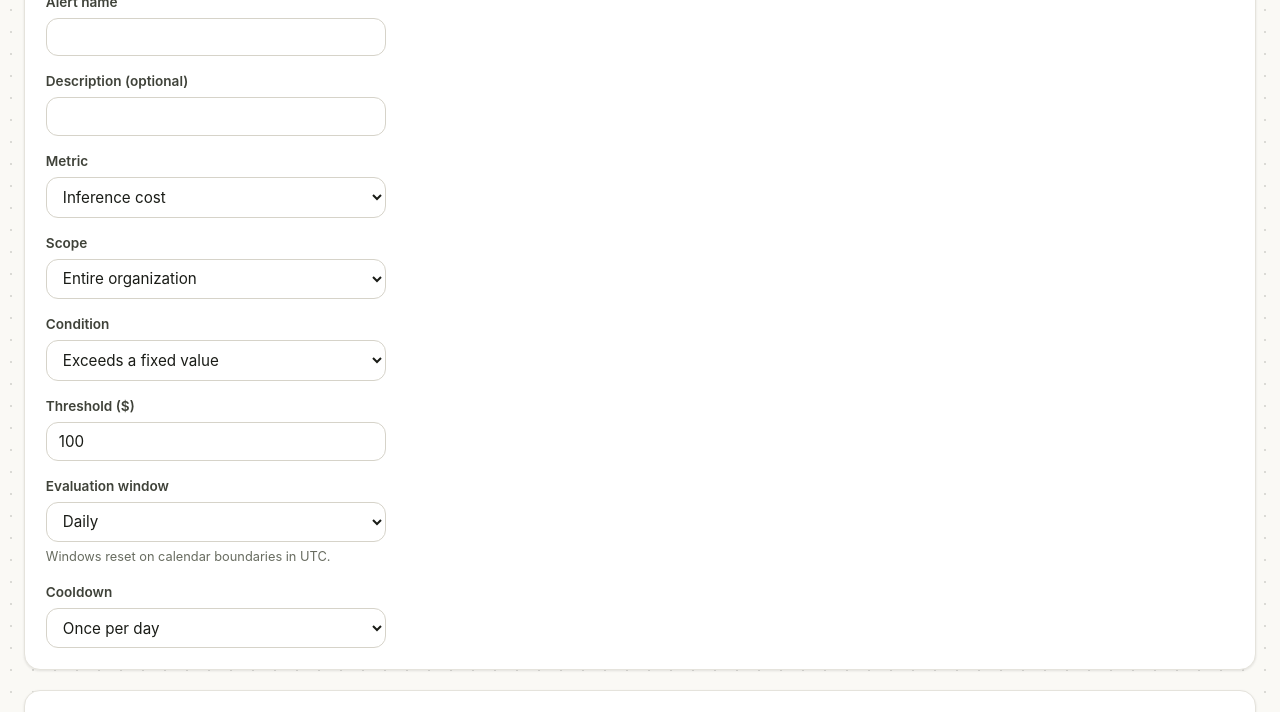
Test case: AlertFormPage — budget-backed conditions › leaves non-budget conditions alone when there is no budget
This screenshot has width=1280, height=712.
(page scrolled)
Select "Increases by more than %" in the dropdown labelled "Condition" at [216, 361], box [46, 340, 386, 381]
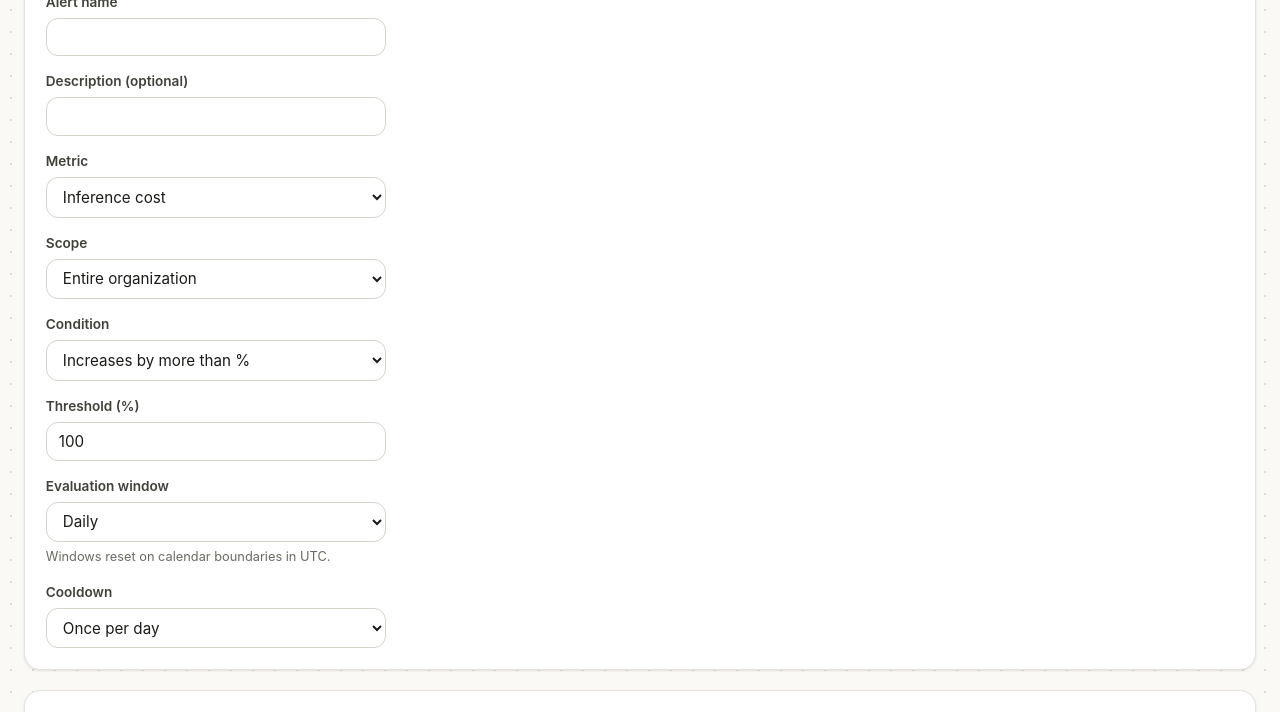
Type "Spike" into the field labelled "Alert name" at [216, 37], box [46, 18, 386, 56]
(page scrolled)
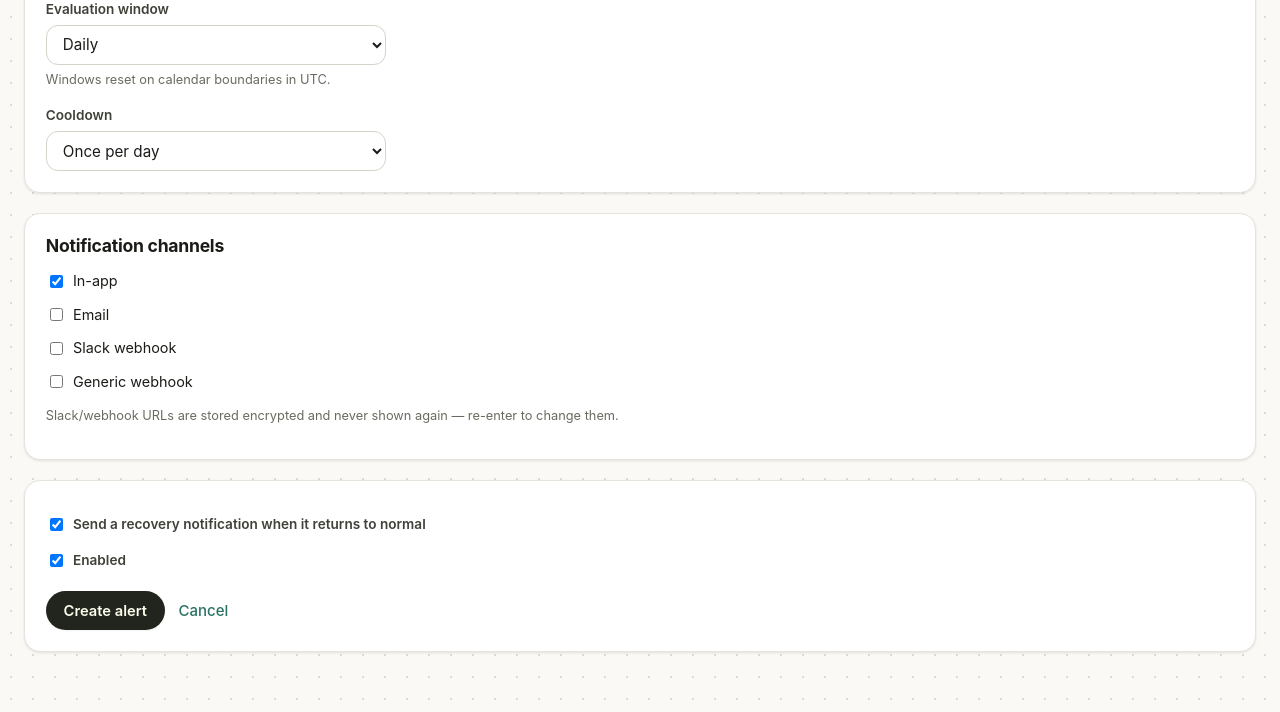
Expected: the button "Create alert" is enabled, [46, 591, 165, 630]
